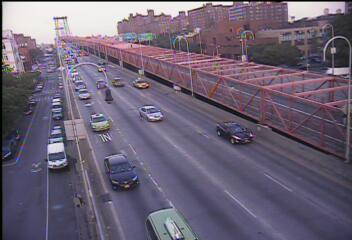neg: (157, 84, 191, 129), (183, 156, 215, 198), (241, 56, 272, 97), (240, 111, 268, 148), (73, 178, 100, 213), (49, 77, 72, 107), (94, 78, 114, 105), (129, 170, 149, 196), (57, 19, 74, 41), (172, 32, 188, 54), (50, 146, 65, 167), (119, 31, 134, 50)
